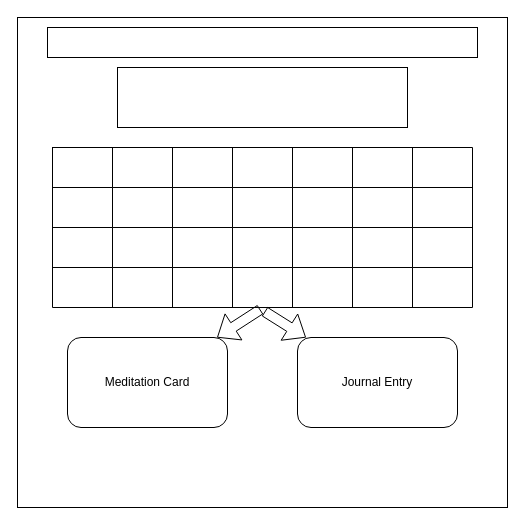
Image size: 525x525. Some labels were removed from this diagram. The centre of each missing label's shape, as x and y in pixels:
"Month" belongs at (262,97).
"NAVBAR" belongs at (262,42).
